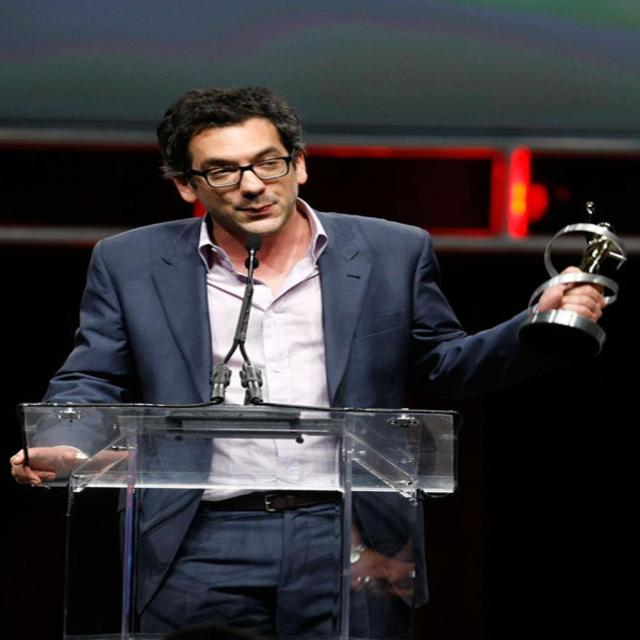Face: (181, 131, 311, 234)
